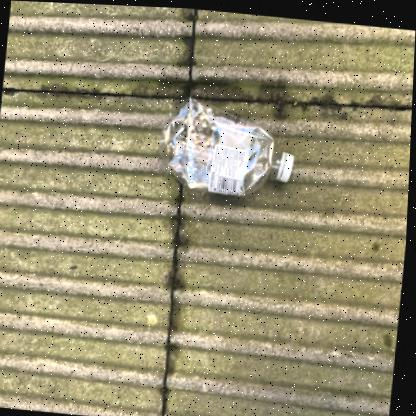Plastic: (160, 94, 296, 192)
